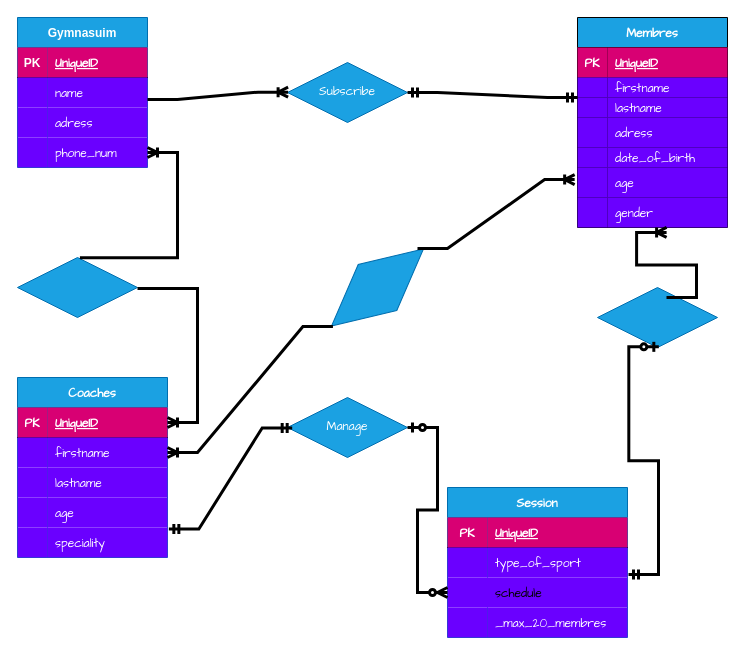
This 745x655 diagram has some shape labels left out. The centre of each missing label's shape, as x and y in pixels:
Follow: the point at 377,287
Participate: the point at 657,317
Work: the point at 77,287
